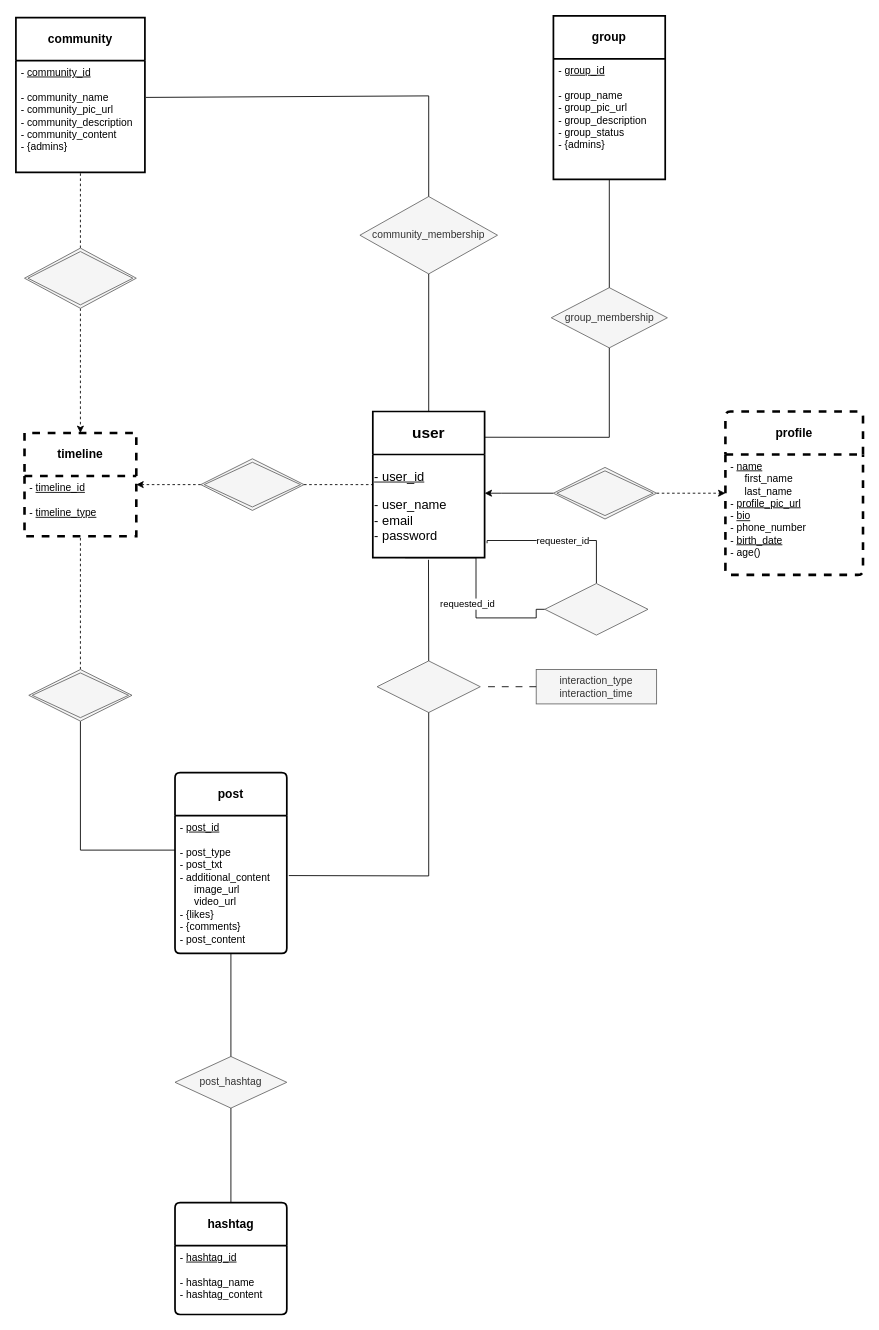
The diagram is 879 pixels wide and 1330 high, and some of its shapes have lost their labels. Here are the shapes that lost their labels. From the top down, the box of each, then its label:
(24, 247, 136, 308): community_timeline
(200, 458, 304, 510): user_timeline
(553, 467, 657, 519): user_profile
(544, 583, 648, 635): friend_requests
(28, 669, 132, 721): timeline_post
(376, 660, 480, 713): interactions
